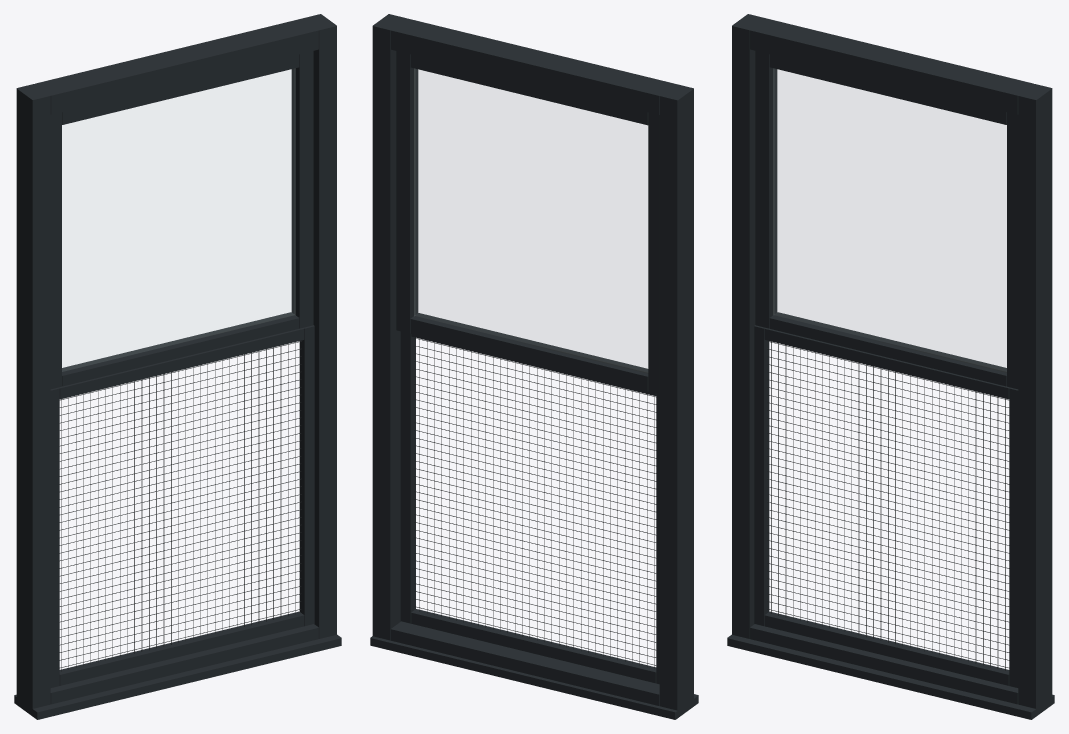
File: black-glass-window-with-lower-screen-03.glb
3 views of the same model, side by side, from view 1: azimuth 30°, elevation 25°; view 2: azimuth 150°, elevation 25°; view 3: azimuth 330°, elevation 25° (orthographic).
Visible parts, largest first — view 1: Window / Upper glass glass, Window / Outer jamb, Window / Lower insect screen mesh, Window / Upper glass sash, Window / Lower insect screen surround, Window / Sill extrusion; view 2: Window / Upper glass glass, Window / Outer jamb, Window / Upper glass sash, Window / Lower insect screen mesh, Window / Lower insect screen surround, Window / Sill extrusion, Window / Upper glass glazing gasket; view 3: Window / Upper glass glass, Window / Outer jamb, Window / Lower insect screen mesh, Window / Upper glass sash, Window / Lower insect screen surround, Window / Sill extrusion, Window / Upper glass glazing gasket.
Boxes of the visible parts, left/top/right/bottom form: Window / Upper glass glass: left=62, top=69, right=294, bottom=371; Window / Outer jamb: left=16, top=14, right=336, bottom=715; Window / Lower insect screen mesh: left=59, top=341, right=301, bottom=671; Window / Upper glass sash: left=50, top=51, right=313, bottom=389; Window / Lower insect screen surround: left=50, top=325, right=314, bottom=687; Window / Sill extrusion: left=14, top=634, right=341, bottom=719; Window / Upper glass glass: left=415, top=69, right=647, bottom=371; Window / Outer jamb: left=372, top=14, right=693, bottom=717; Window / Upper glass sash: left=396, top=51, right=659, bottom=394; Window / Lower insect screen mesh: left=414, top=337, right=656, bottom=668; Window / Lower insect screen surround: left=400, top=331, right=659, bottom=684; Window / Sill extrusion: left=370, top=636, right=698, bottom=719; Window / Upper glass glazing gasket: left=413, top=68, right=648, bottom=373; Window / Upper glass glass: left=774, top=69, right=1006, bottom=371; Window / Outer jamb: left=732, top=14, right=1052, bottom=715; Window / Lower insect screen mesh: left=767, top=341, right=1009, bottom=670; Window / Upper glass sash: left=755, top=51, right=1018, bottom=389; Window / Lower insect screen surround: left=754, top=325, right=1018, bottom=687; Window / Sill extrusion: left=727, top=634, right=1054, bottom=719; Window / Upper glass glazing gasket: left=773, top=69, right=1006, bottom=372.
Bounding box in the file's own units: 0.75 × 1.45 × 0.1.
